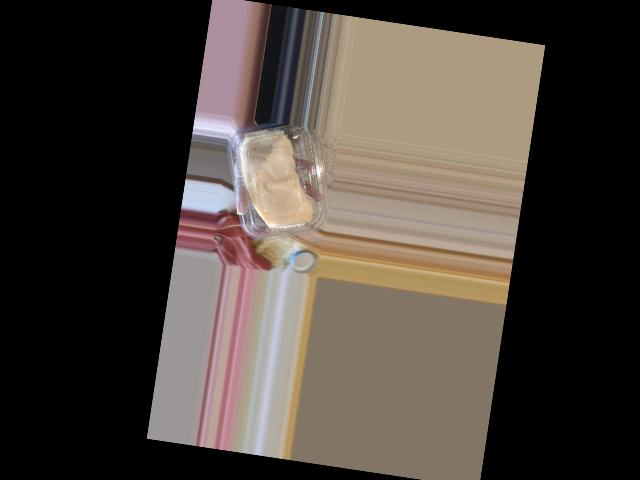cheese: (221, 116, 335, 250)
